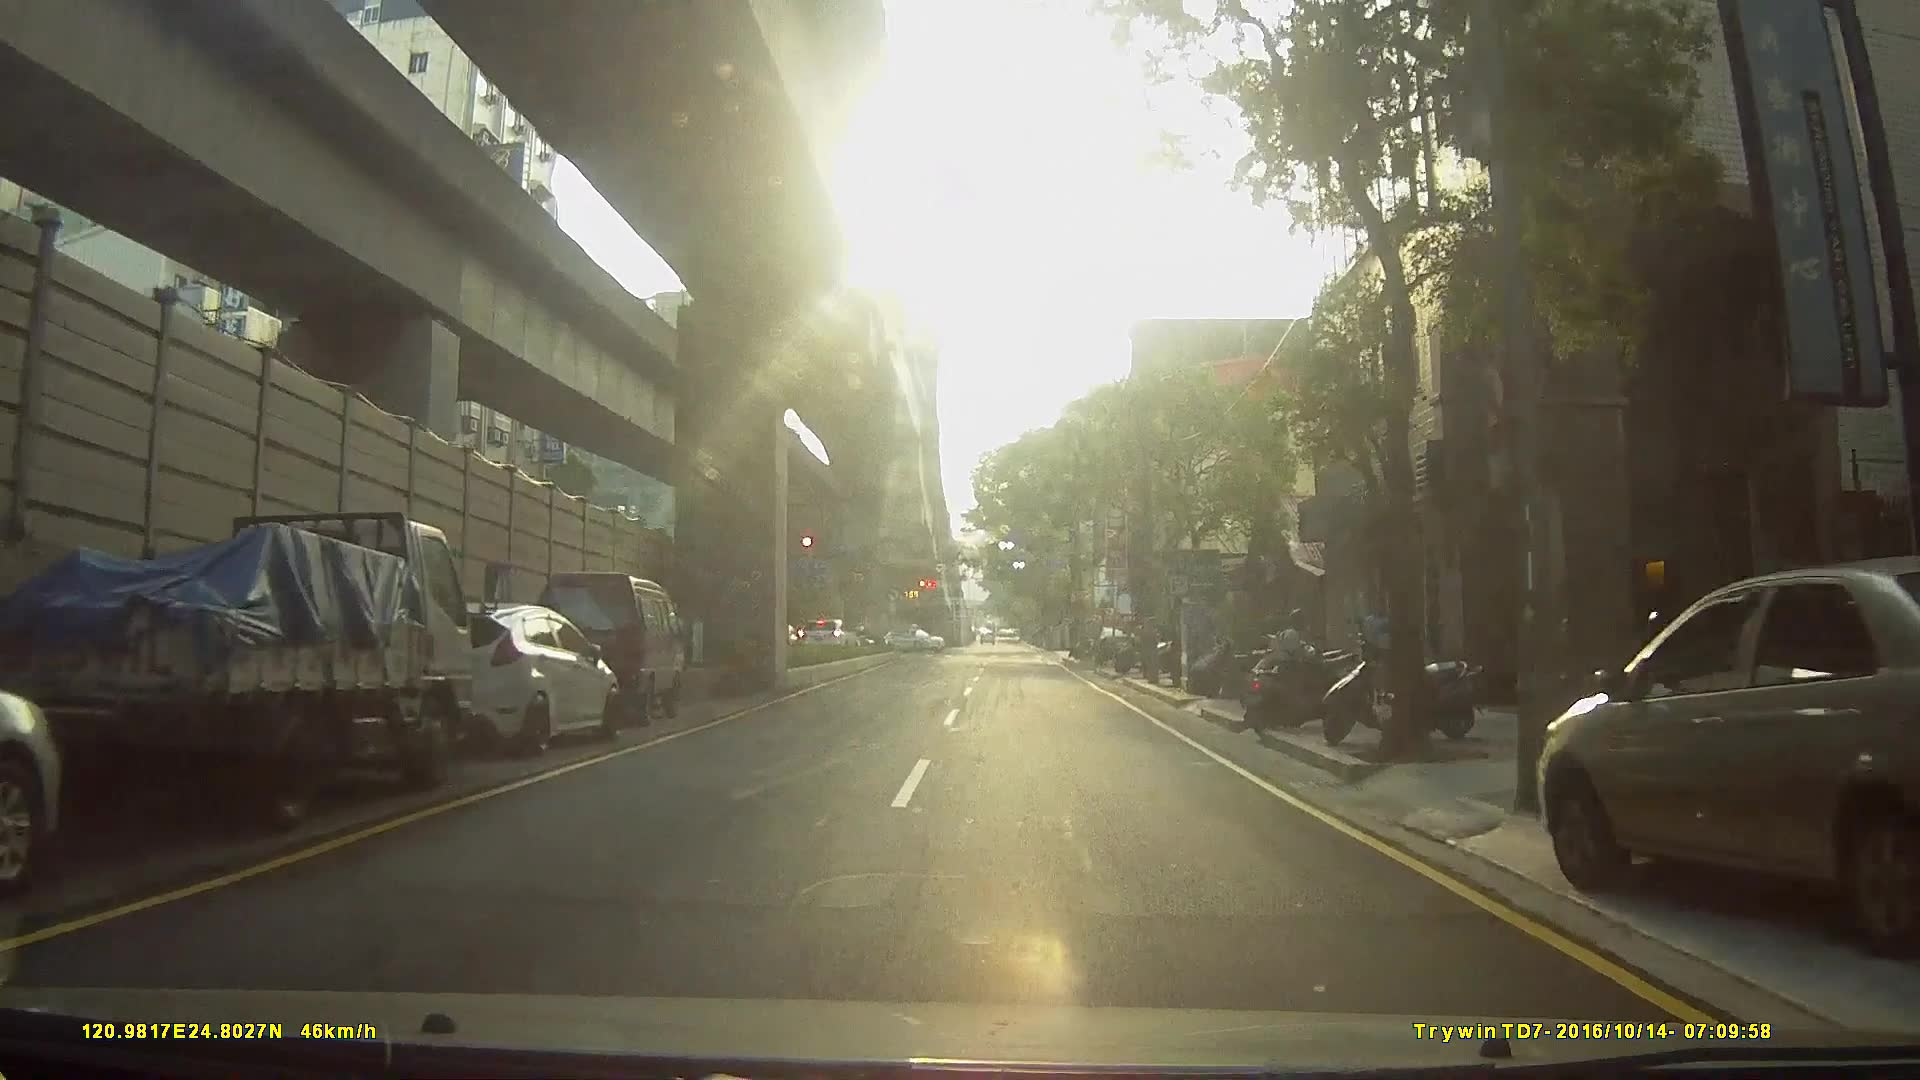rider: (1241, 609, 1361, 737)
vehicle: (17, 498, 522, 829), (1541, 534, 1920, 965), (378, 596, 614, 760), (520, 570, 699, 730), (1, 674, 77, 890), (792, 617, 856, 658), (1090, 625, 1136, 663), (881, 629, 943, 656)
